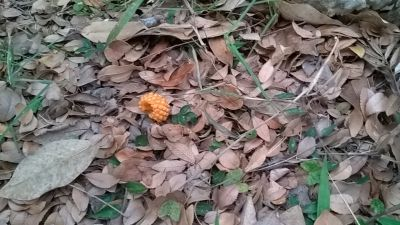eggs: (139, 90, 172, 123)
